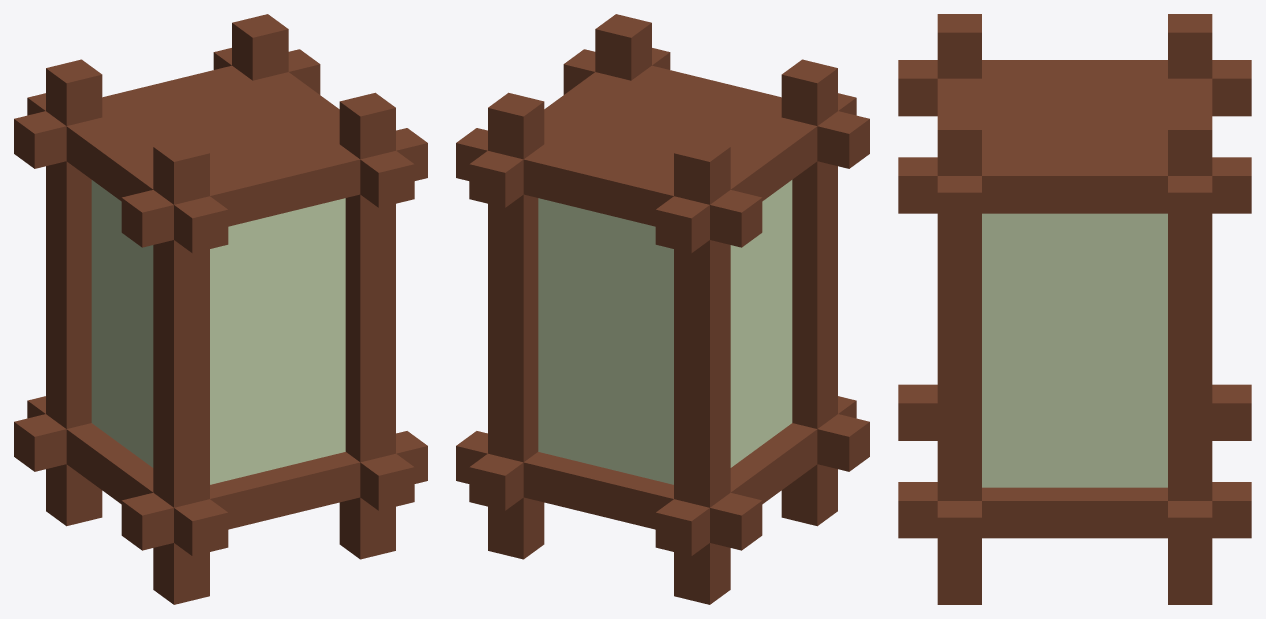
File: lamp_05.fbx
3 views of the same model, side by side, from view 1: azimuth 30°, elevation 25°; view 2: azimuth 150°, elevation 25°; view 3: azimuth 270°, elevation 25° (orthographic). The views are drawn at different scales.
Parts seen in each view (by area): view 1: Cube.132; view 2: Cube.132; view 3: Cube.132.
Boxes of the visible parts, x1,y1,x2,y2 form: Cube.132: (14,14,427,604); Cube.132: (456,14,869,604); Cube.132: (898,14,1251,604).
Size of the model in its own units: 114 by 169 by 114.
